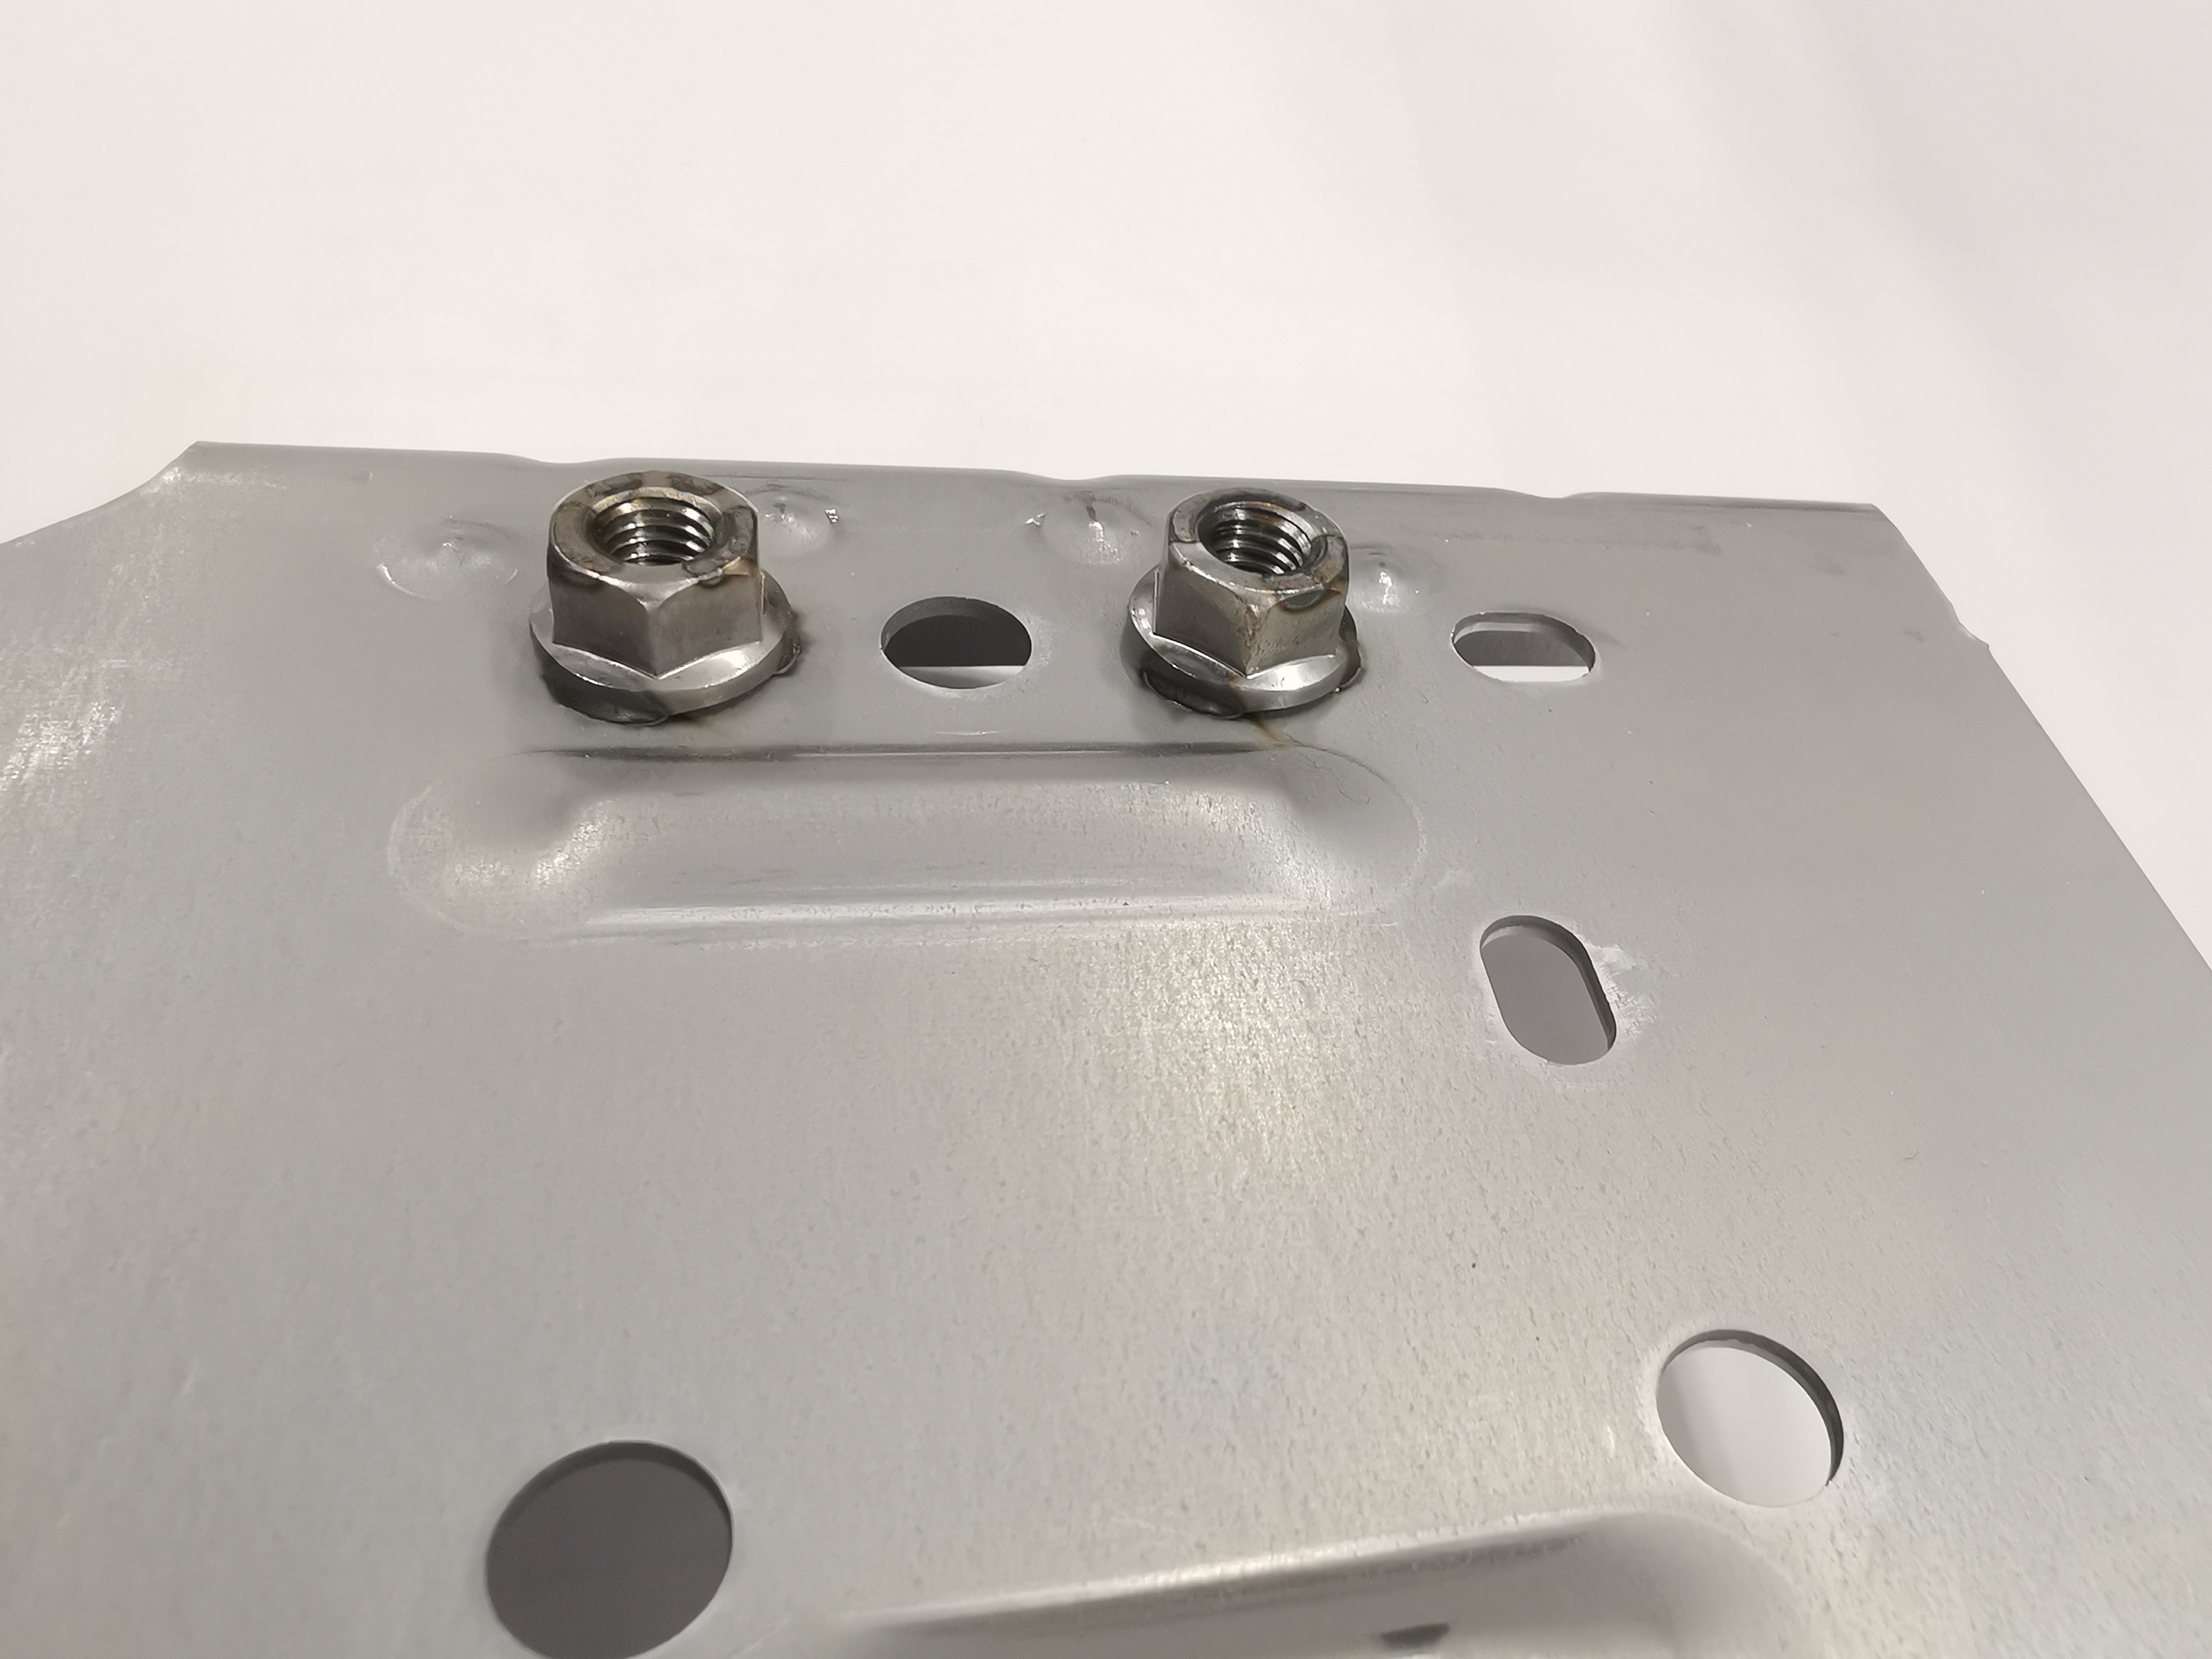dog: (523, 460, 803, 730), (1118, 483, 1371, 727)
